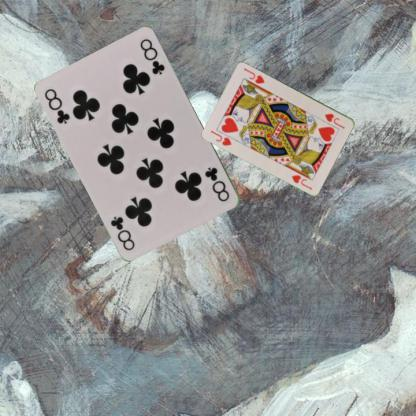8c: (42, 86, 72, 126), (202, 164, 231, 203)
Jh: (322, 110, 346, 130), (208, 128, 233, 146)
